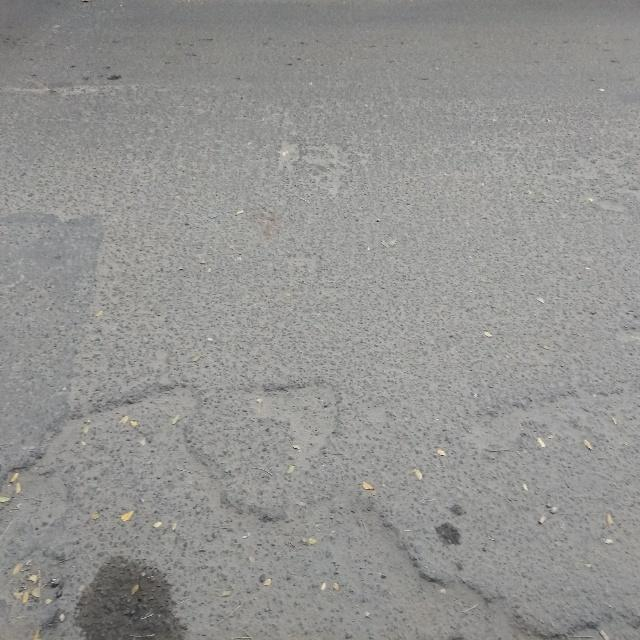Surface Erosion: (28, 79, 601, 640)
